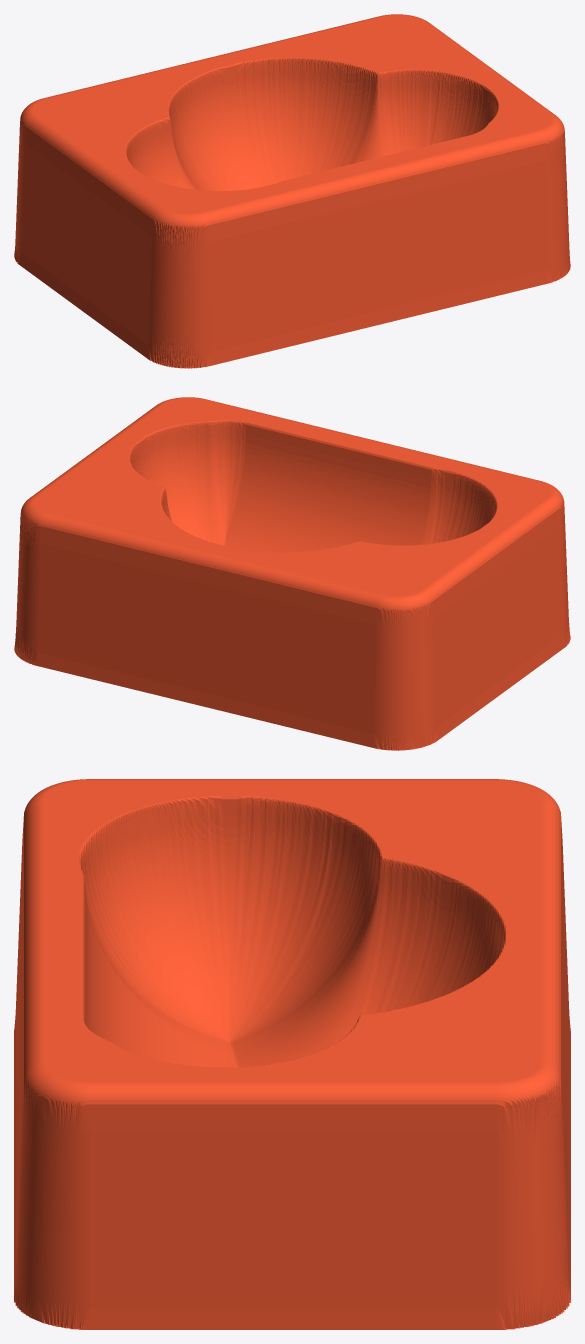
The model's file is mold.glb.
3 views of the same model, one above another, from view 1: azimuth 30°, elevation 25°; view 2: azimuth 150°, elevation 25°; view 3: azimuth 270°, elevation 25° (orthographic). The views are drawn at different scales.
Parts seen in each view (by area): view 1: geometry_0; view 2: geometry_0; view 3: geometry_0.
Part boxes in pixels (bbox=[...]): geometry_0: bbox=[14, 14, 570, 368]; geometry_0: bbox=[14, 397, 570, 750]; geometry_0: bbox=[14, 779, 570, 1329].
Bounding box in the file's own units: 0.0924 × 0.031 × 0.0666.
